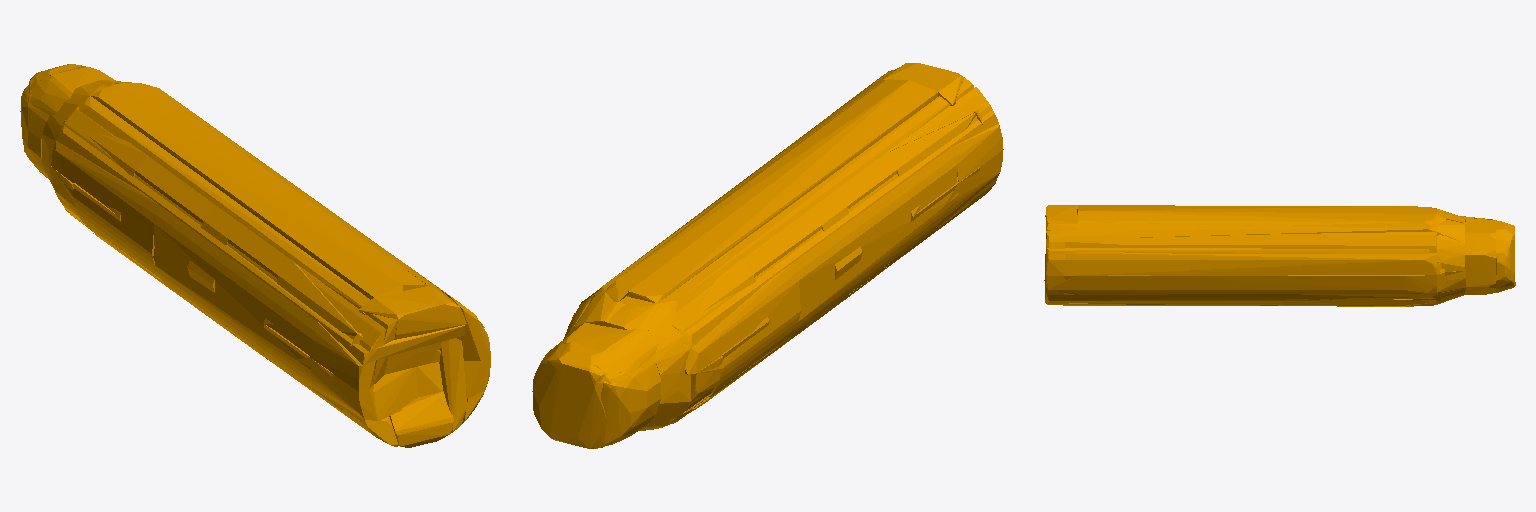
robot.urdf — bottle-deodorant:
<?xml version="1.0" ?>
<robot name="bottle-deodorant">
  <link name="baseLink">
    <contact>
      <lateral_friction value="1.0"/>
      <inertia_scaling value="3.0"/>
    </contact>
    <inertial>
      <origin rpy="0 0 0" xyz="0.000 0.000 0.000"/>
       <mass value=".1"/>
       <inertia ixx="1" ixy="0.0" ixz="0.0" iyy="1" iyz="0.0" izz="1"/>
    </inertial>
    <visual>
      <origin rpy="0 0 0" xyz="0 0 0"/>
      <geometry>
        <mesh filename="bottle/bottle-deodorant_spray.obj" scale="1.0 1.0 1.0"/>
      </geometry>
    </visual>
    <collision>
      <origin rpy="0 0 0" xyz="0 0 0"/>
      <geometry>
        <mesh filename="../collision/bottle/bottle-deodorant_spray.obj" scale="1.0 1.0 1.0"/>
      </geometry>
    </collision>
  </link>
</robot>
        

--- Render facts (derived) ---
The picture shows the robot from 3 angles, left to right: view 1: azimuth 30°, elevation 25°; view 2: azimuth 150°, elevation 25°; view 3: azimuth 270°, elevation 25°; orthographic projection.
Robot: bottle-deodorant — 1 links, 0 joints (none); root link baseLink; default pose: every joint at zero.
Links seen in each view (by area): view 1: baseLink; view 2: baseLink; view 3: baseLink.
Boxes of the visible links, x1,y1,x2,y2 form: baseLink: (20, 64, 490, 447); baseLink: (532, 63, 1003, 448); baseLink: (1044, 205, 1515, 306).
Bounding box of the posed robot: 0.045 × 0.2106 × 0.0456 m (x, y, z).
Meshes: 1 distinct files referenced, 1 mesh visuals loaded (1 OBJ).